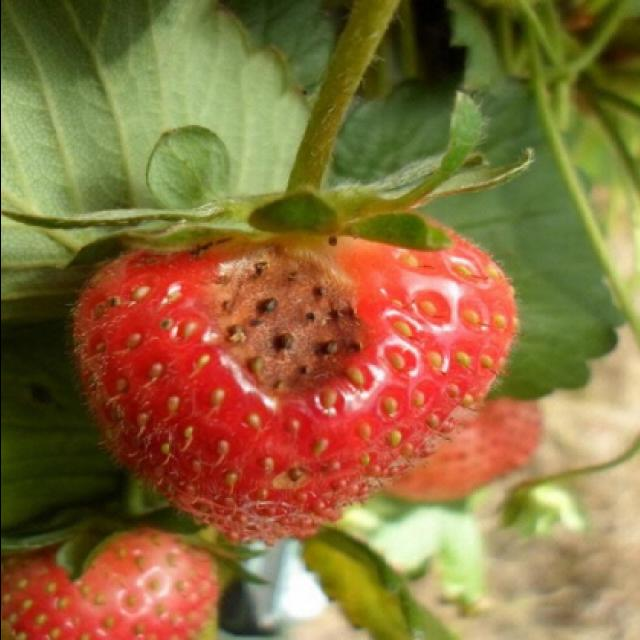Anthracnose Fruit Rot: (198, 236, 373, 417)
